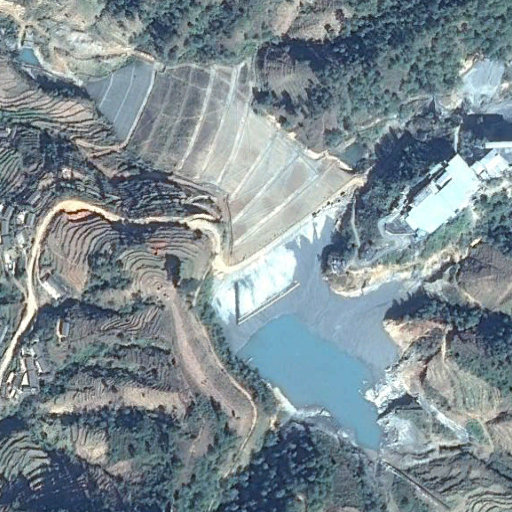tp: (82, 58, 416, 452)
